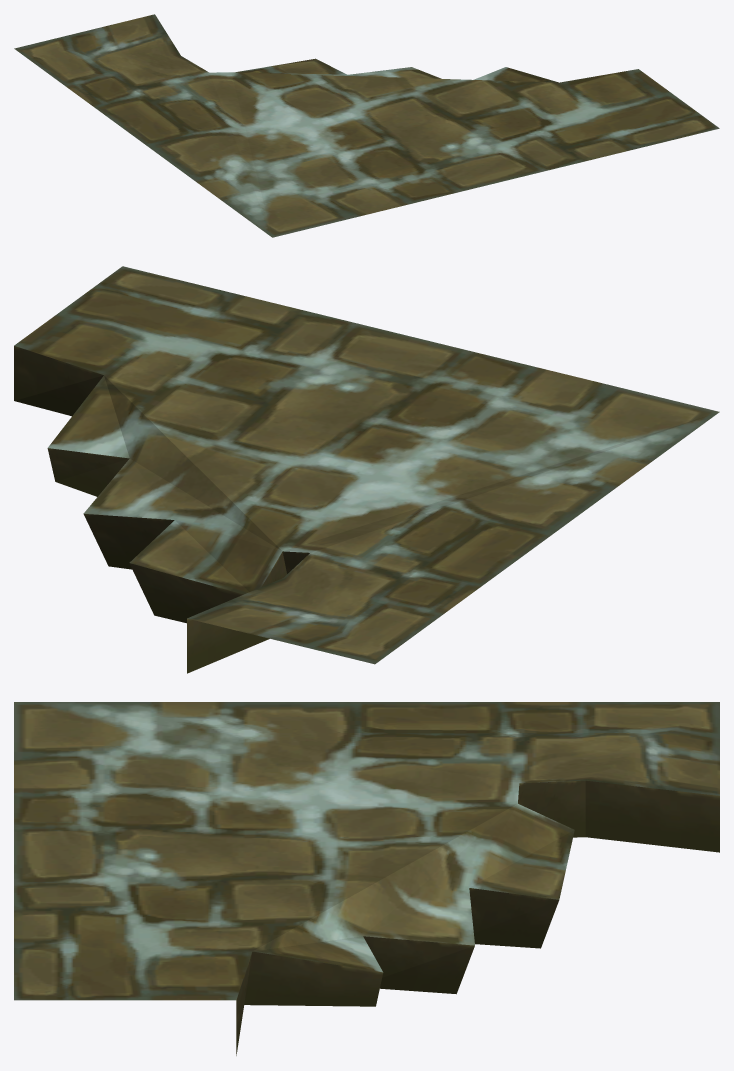
File: tundra_floor_cobble_hole_03.fbx
3 views of the same model, one above another, from view 1: azimuth 30°, elevation 25°; view 2: azimuth 150°, elevation 25°; view 3: azimuth 270°, elevation 25° (orthographic). The views are drawn at different scales.
Visible parts, largest first — view 1: obj0.157; view 2: obj0.157; view 3: obj0.157.
Boxes of the visible parts, box(x1,y1,x2,y2) form: obj0.157: box(14, 14, 719, 237); obj0.157: box(14, 266, 719, 673); obj0.157: box(14, 702, 719, 1055).
Size of the model in its own units: 4 by 0.5927 by 4.
